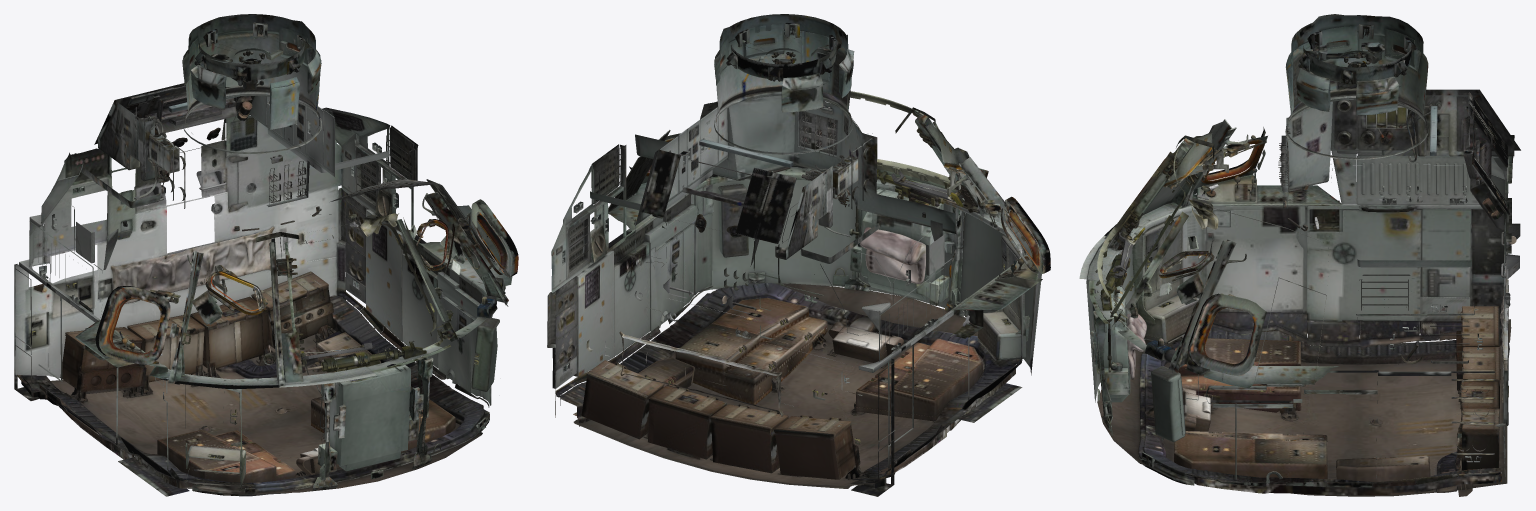
File: apollo11.glb
3 views of the same model, side by side, from view 1: azimuth 30°, elevation 25°; view 2: azimuth 150°, elevation 25°; view 3: azimuth 270°, elevation 25° (orthographic). The views are drawn at different scales.
Size of the model in its own units: 279 by 251 by 249.
Materials: 1 (1 with a texture image).
